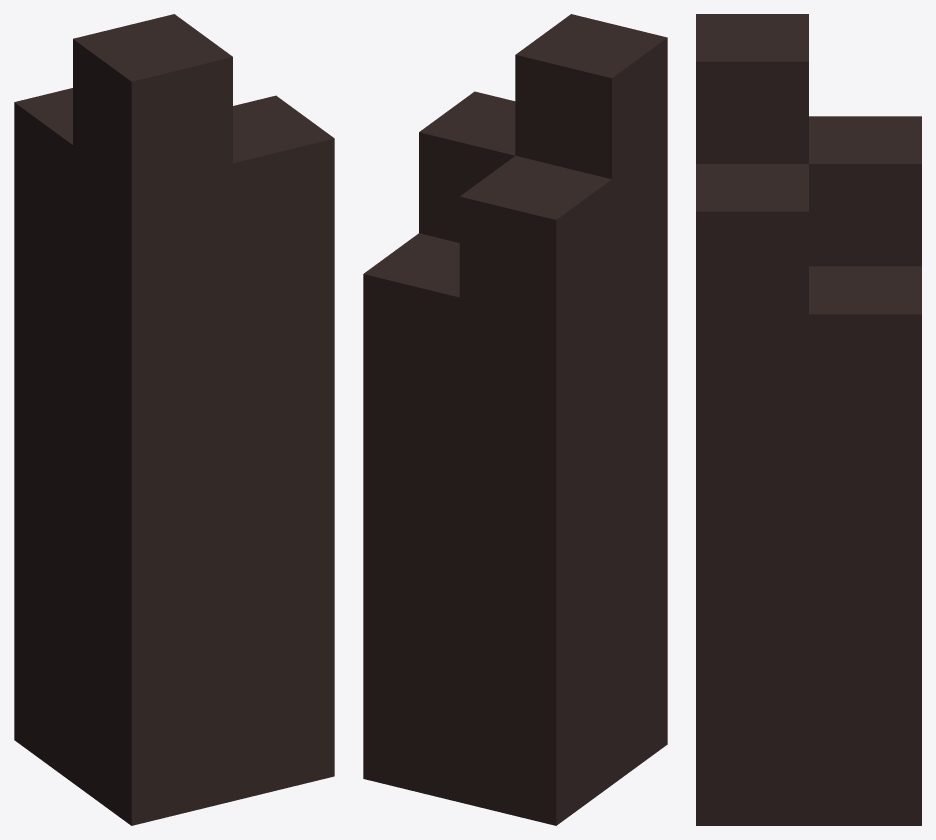
The model's file is fox__leg_fr.glb.
3 renders of one model, left to right at view 1: azimuth 30°, elevation 25°; view 2: azimuth 150°, elevation 25°; view 3: azimuth 270°, elevation 25°, orthographic. The views are drawn at different scales.
Visible parts, largest first — view 1: fox__leg_fr; view 2: fox__leg_fr; view 3: fox__leg_fr.
Part boxes in pixels (x1=…): fox__leg_fr: x1=14, y1=14, x2=334, y2=825; fox__leg_fr: x1=363, y1=14, x2=667, y2=825; fox__leg_fr: x1=696, y1=14, x2=921, y2=825.
Size of the model in its own units: 0.2 by 0.7 by 0.2.
Materials: 1 (1 with a texture image).
